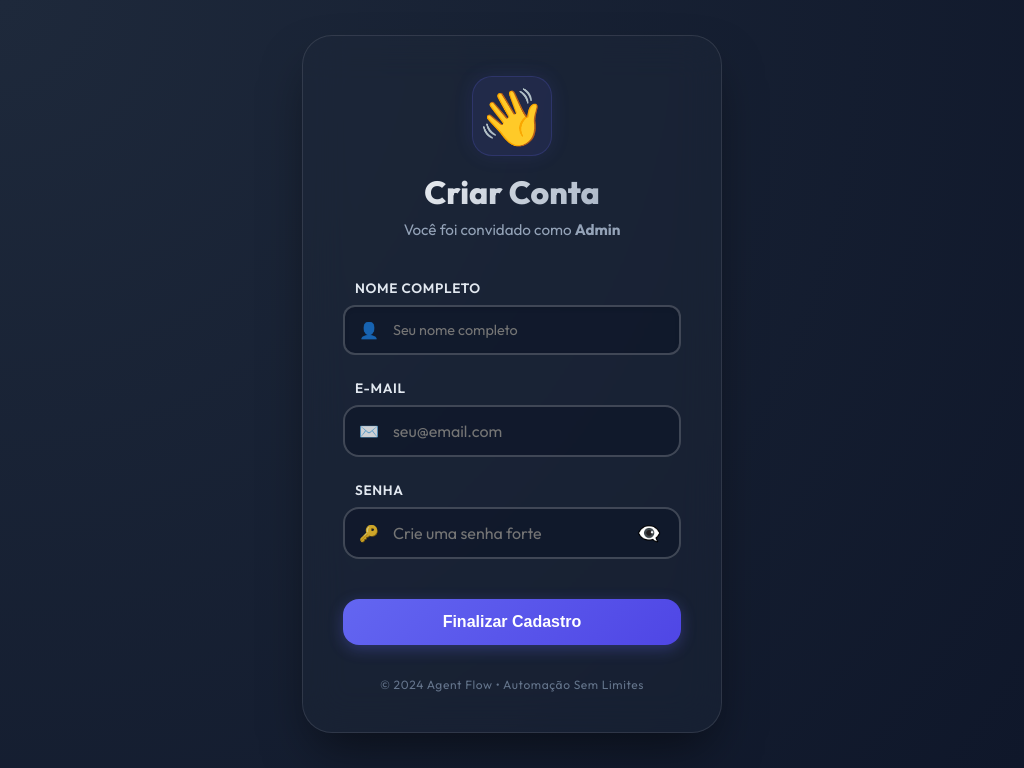
Test: Register Component › deve exibir erro se o email ja estiver em uso
This screenshot has width=1024, height=768.
Expected: the heading "Criar Conta" is shown, top-left (343, 172), bottom-right (681, 212)
In the field with placeholder "Seu nome completo": (512, 330) top-left (343, 305), bottom-right (681, 355), type "Maria Silva"
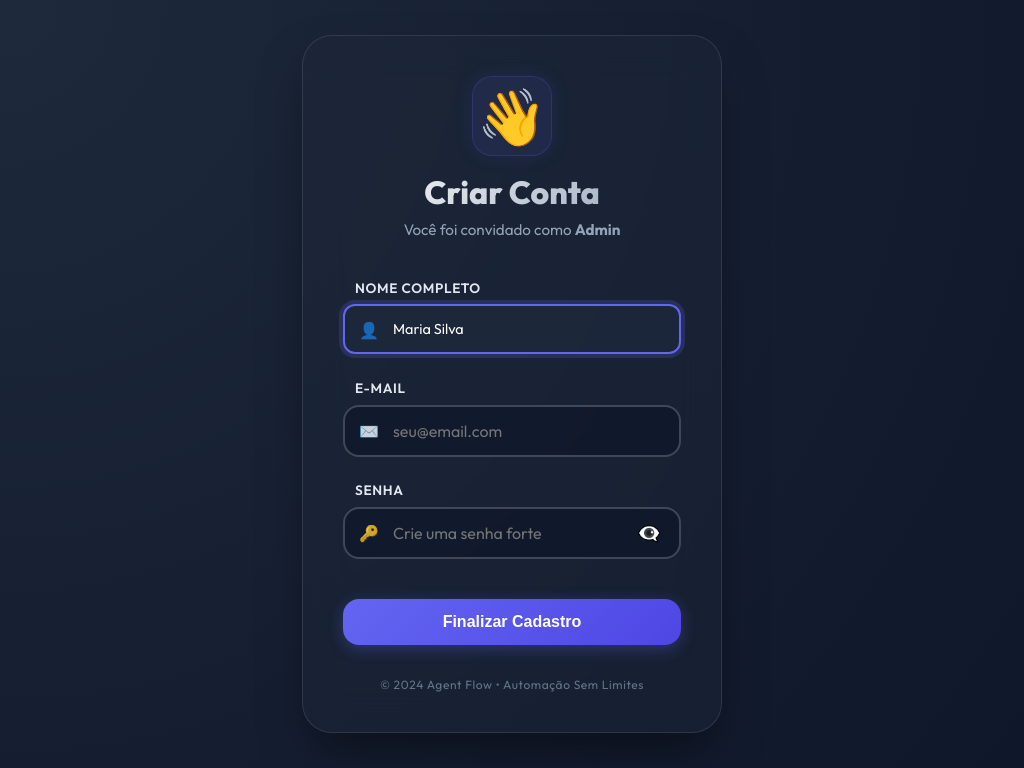
In the field with placeholder "seu@email.com": (512, 431) top-left (343, 405), bottom-right (681, 457), type "maria@silva.com"
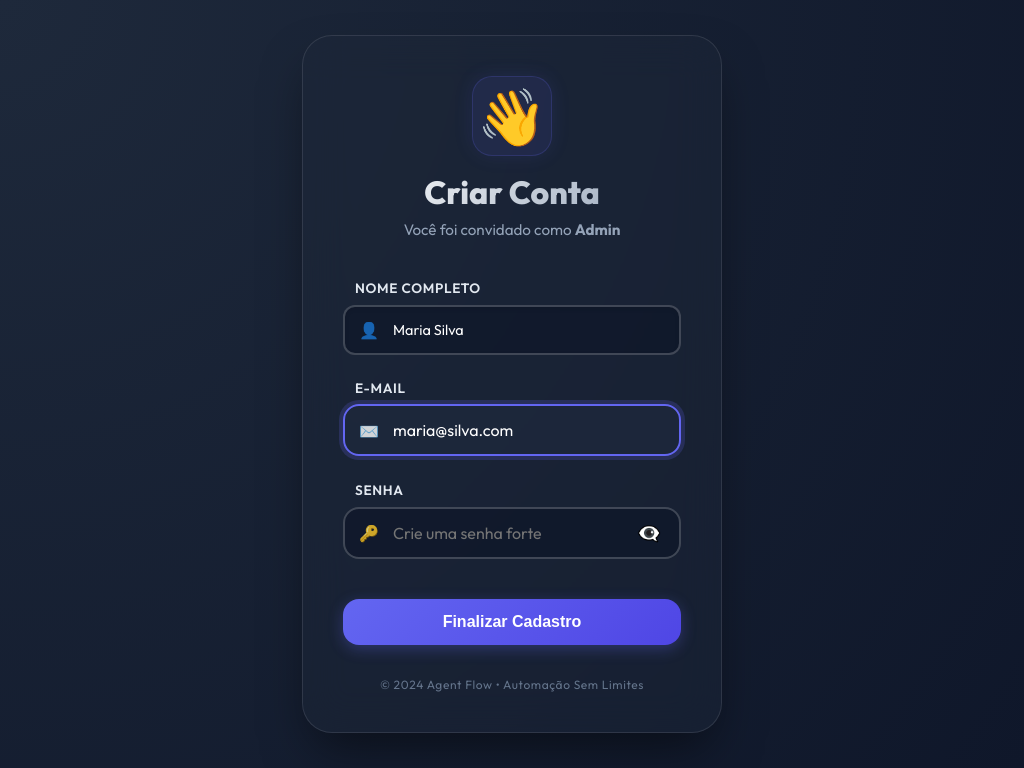
In the password field with placeholder "Crie uma senha forte": (512, 533) top-left (343, 507), bottom-right (681, 559), type "senha123"
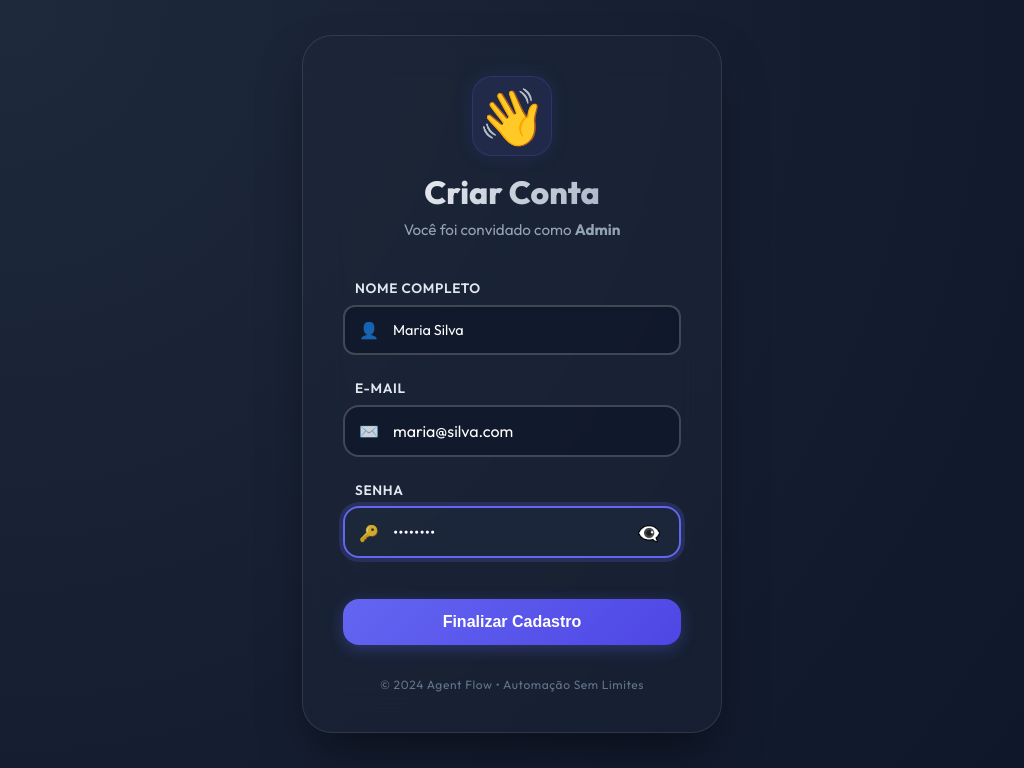
Submit the text "Finalizar Cadastro", box top-left (343, 279), bottom-right (681, 645)
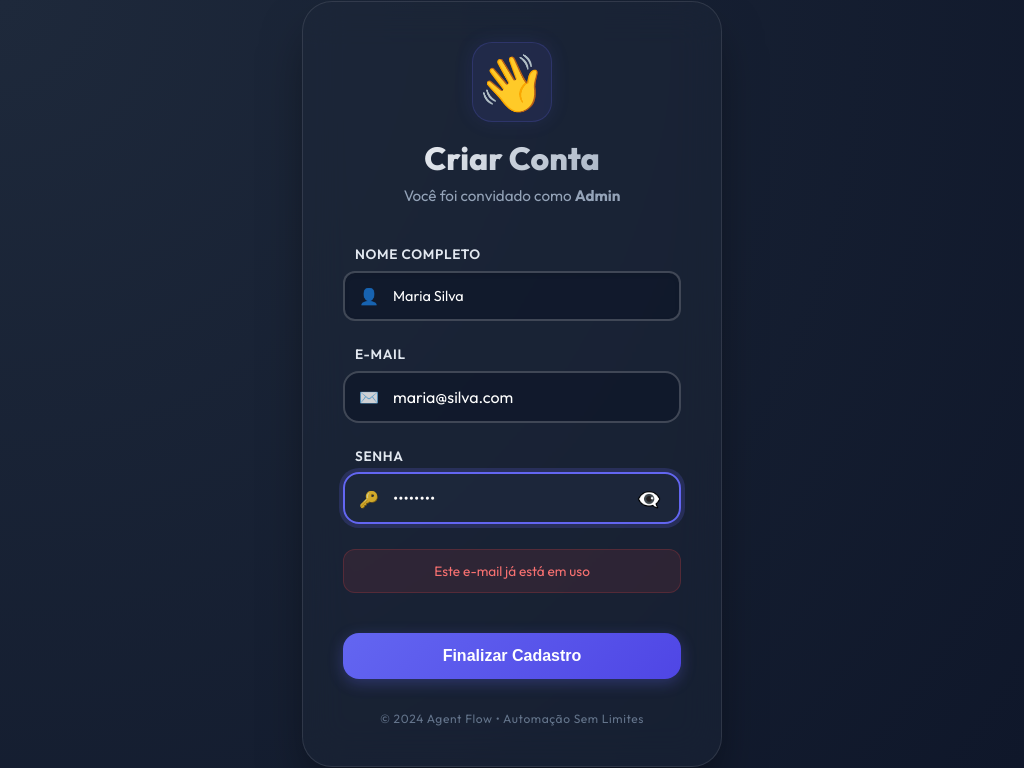
Now the text "Este e-mail já está em uso" is shown, box top-left (343, 549), bottom-right (681, 593)
